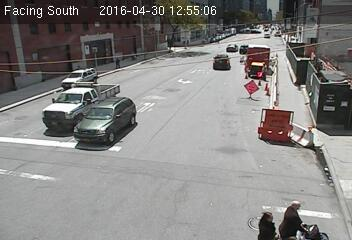neg: (290, 54, 311, 81), (263, 5, 278, 24), (162, 34, 176, 53), (54, 61, 67, 79), (246, 77, 259, 94), (325, 90, 337, 105), (11, 73, 22, 87), (267, 34, 277, 46), (202, 34, 211, 45)
pos: (274, 194, 306, 237), (253, 206, 276, 237)
